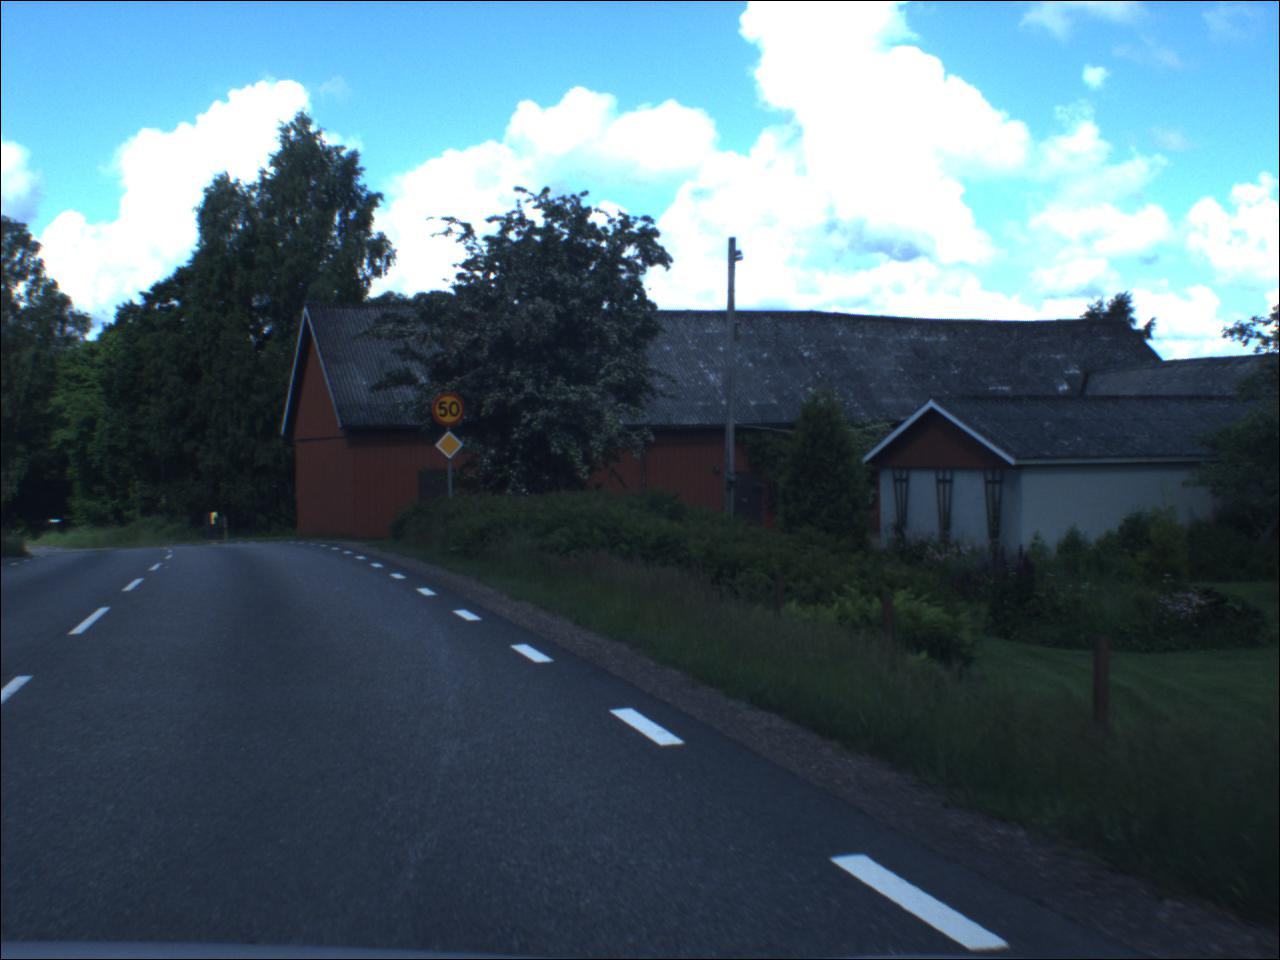50_SIGN: (432, 393, 470, 429)
PRIORITY_ROAD: (436, 432, 468, 462)
